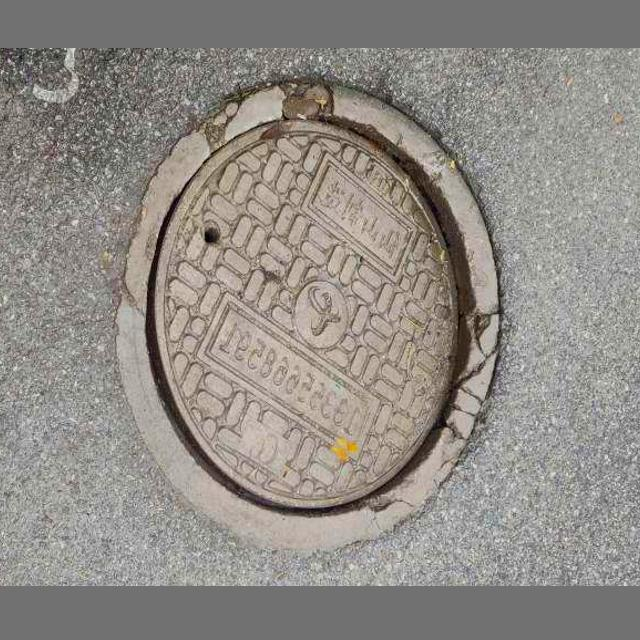circle: (92, 77, 554, 547)
